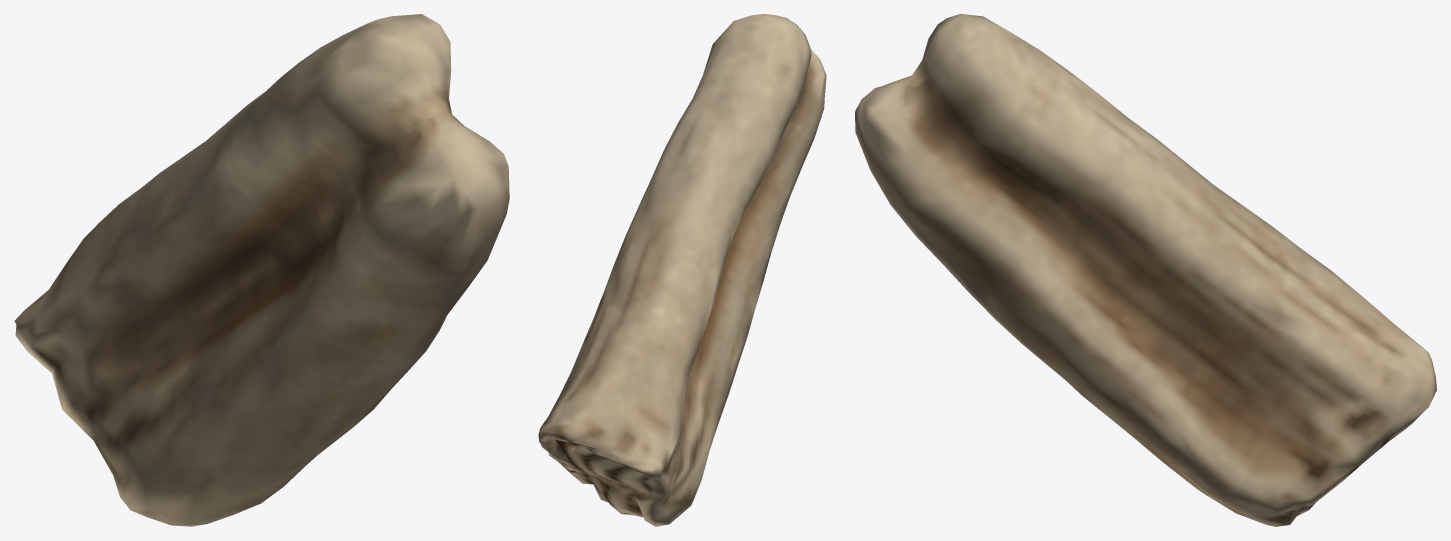
Rendered from Maxilary_Molar4.glb.
The picture shows the model from 3 angles, left to right: view 1: azimuth 30°, elevation 25°; view 2: azimuth 150°, elevation 25°; view 3: azimuth 270°, elevation 25°; orthographic projection. The views are drawn at different scales.
Visible parts, largest first — view 1: Maxilary_Molar4.glb; view 2: Maxilary_Molar4.glb; view 3: Maxilary_Molar4.glb.
Part boxes in pixels (left/top/right/bottom): Maxilary_Molar4.glb: left=14, top=14, right=509, bottom=526; Maxilary_Molar4.glb: left=538, top=14, right=826, bottom=526; Maxilary_Molar4.glb: left=855, top=14, right=1436, bottom=526.
Bounding box in the file's own units: 0.0204 × 0.0596 × 0.0628.
Materials: 1 (1 with a texture image).
